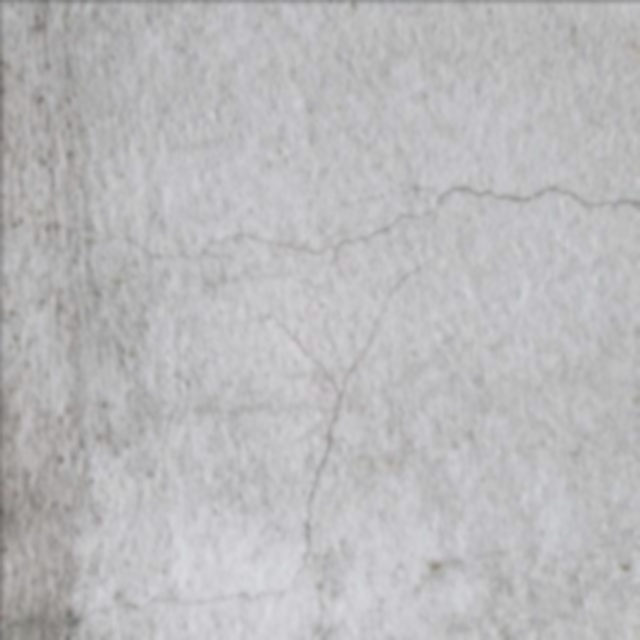SurfaceCrack: (13, 151, 639, 304)
